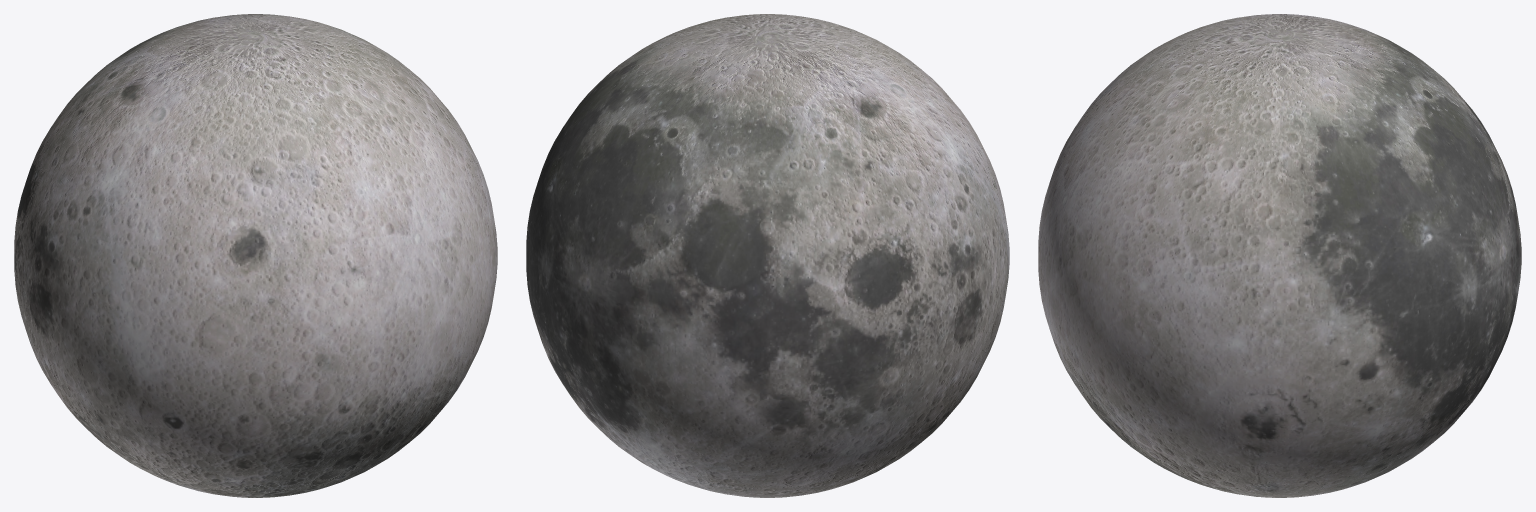
The model's file is mond.glb.
The picture shows the model from 3 angles, left to right: view 1: azimuth 30°, elevation 25°; view 2: azimuth 150°, elevation 25°; view 3: azimuth 270°, elevation 25°; orthographic projection.
Visible parts, largest first — view 1: Sphere; view 2: Sphere; view 3: Sphere.
Part boxes in pixels (x1,y1,x2,y2): Sphere: (14, 14, 497, 497); Sphere: (526, 14, 1009, 497); Sphere: (1038, 14, 1521, 497).
Size of the model in its own units: 2 by 2 by 2.
1 material, 1 textured.
